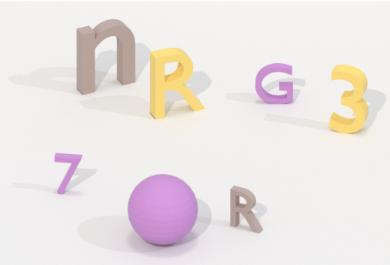0-Tron: (124, 169, 203, 249)
3: (327, 61, 371, 138)
7: (49, 147, 87, 198)
G: (252, 57, 296, 108)
R: (225, 181, 266, 237)
n: (70, 13, 141, 99)
r: (147, 43, 208, 125)
